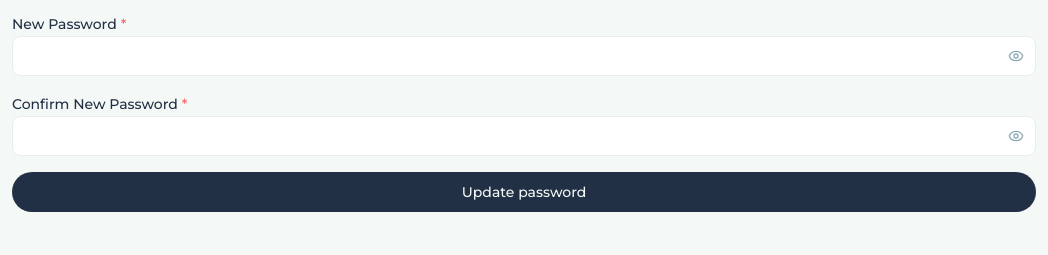
Test: ResetPasswordForm › shows a validation error when passwords do not match
Type "Password123" into the password field labelled "New Password*" at (524, 56), box [12,36,1036,76]
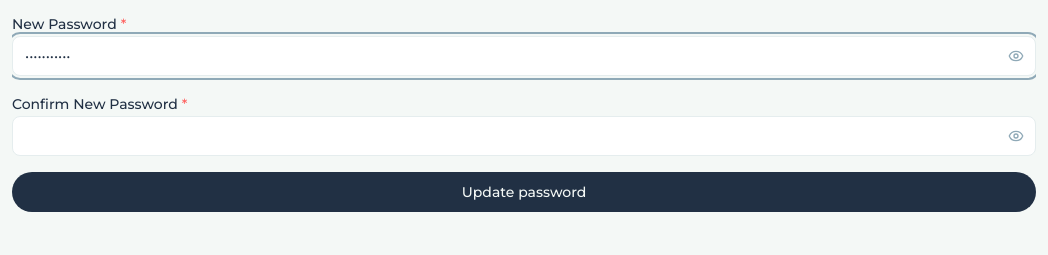
Type "Different123" into the password field labelled "Confirm New Password*" at (524, 136), box [12,116,1036,156]
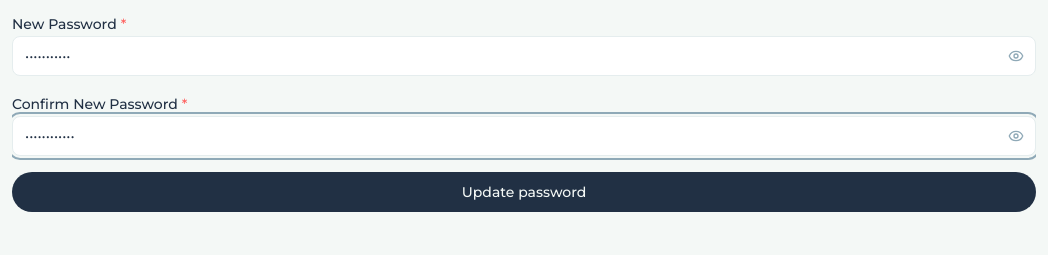
Click the button "Update password" at (524, 192), box [12,172,1036,212]
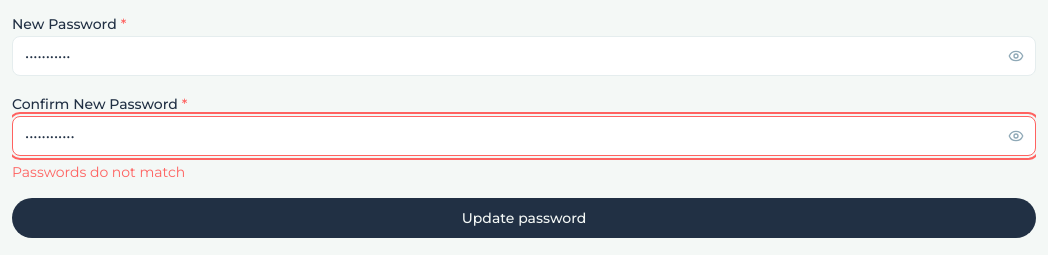
Now the text "Passwords do not match" is shown, box [12,163,185,181]
